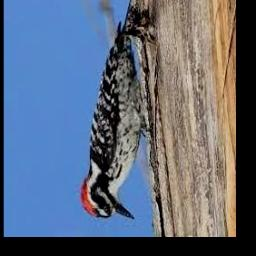Woodpecker: (80, 10, 146, 220)
